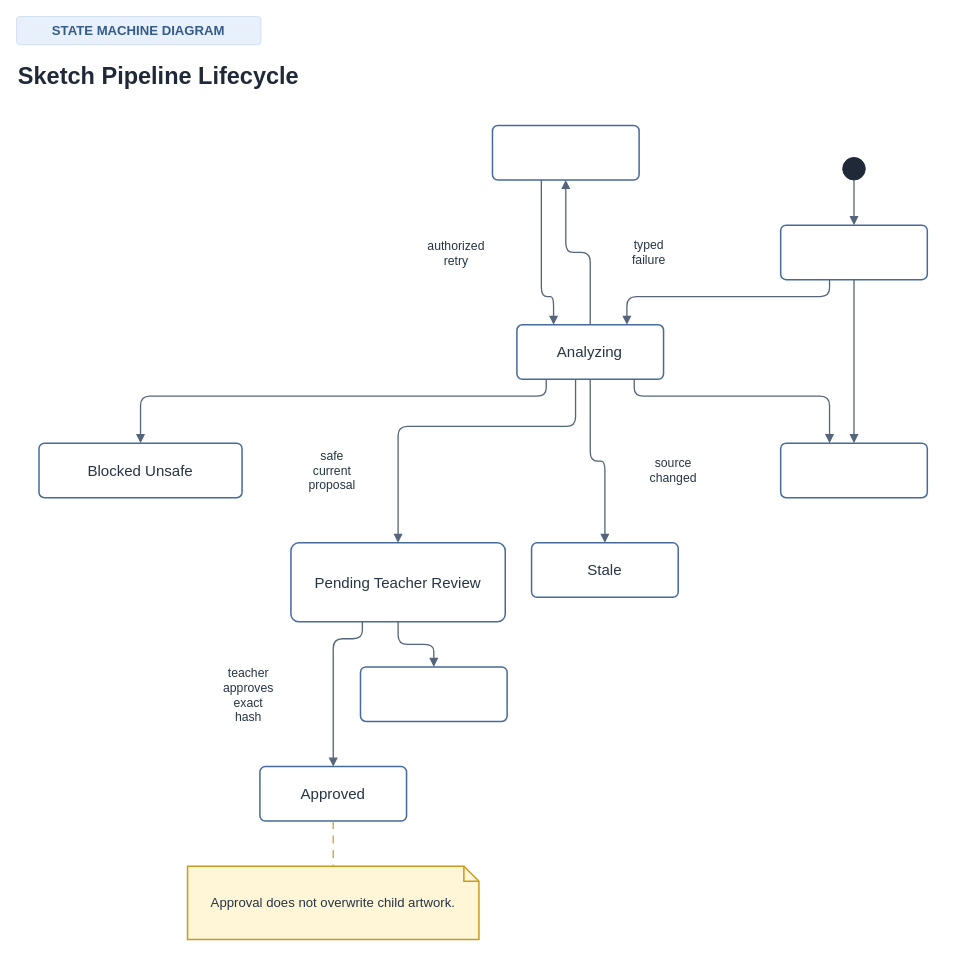
Image size: 966x957. Some labels were removed from this diagram. Here are the shapes that lost their labels. From the top down, the centre of each, then its label:
At point 565,152: "Failed".
At point 853,252: "Requested".
At point 853,470: "Cancelled".
At point 433,694: "Rejected".
